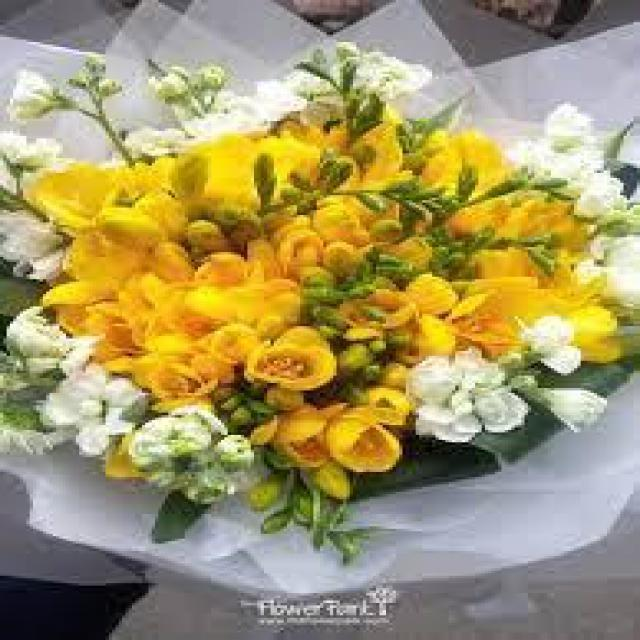freesia: (106, 256, 286, 394), (264, 390, 434, 497), (238, 192, 406, 285), (232, 322, 344, 391)
